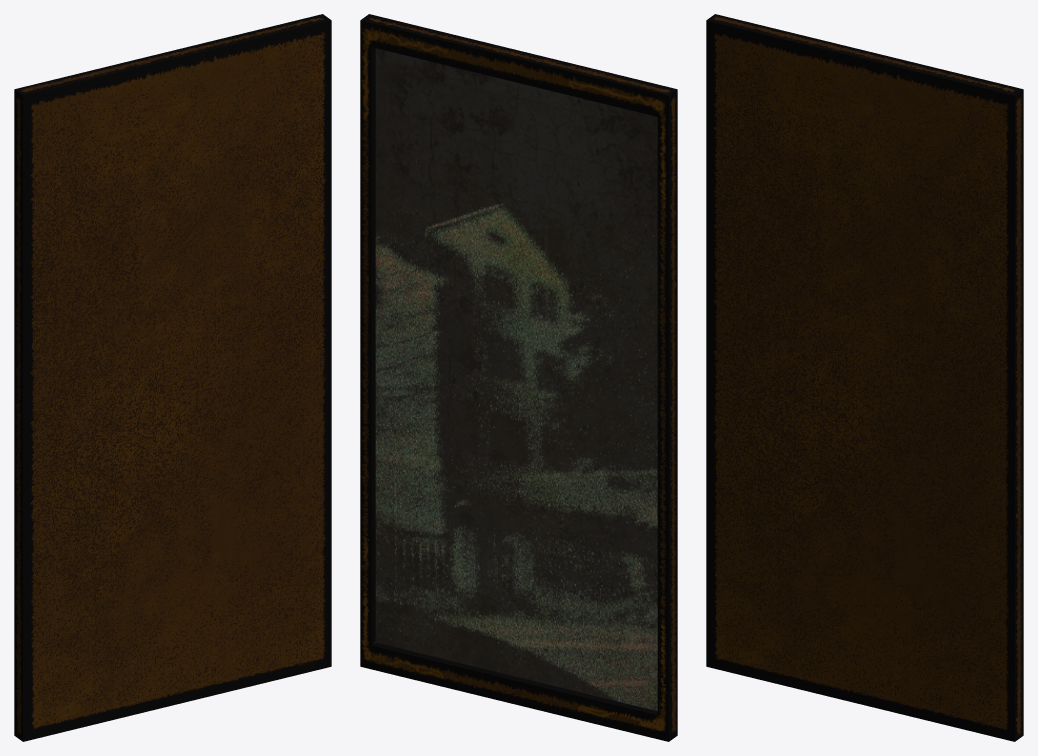
File: PortraitPainting.fbx
3 views of the same model, side by side, from view 1: azimuth 30°, elevation 25°; view 2: azimuth 150°, elevation 25°; view 3: azimuth 330°, elevation 25° (orthographic).
Parts seen in each view (by area): view 1: MolduraPortrait; view 2: MolduraPortrait; view 3: MolduraPortrait.
Part boxes in pixels (box(x1,y1,x2,y2)): MolduraPortrait: box(14, 14, 331, 741); MolduraPortrait: box(360, 14, 677, 741); MolduraPortrait: box(706, 14, 1023, 741).
Size of the model in its own units: 100 by 200 by 5.
Materials: 1 (1 with a texture image).
